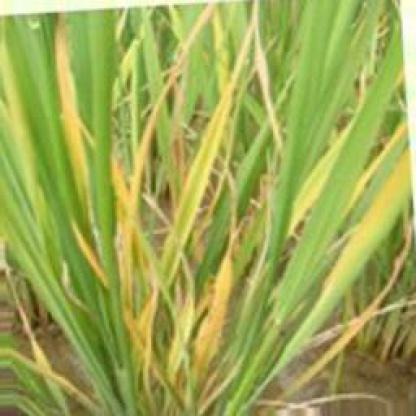Tungro: (123, 43, 263, 396), (281, 153, 408, 364), (267, 100, 370, 251), (183, 227, 245, 415), (47, 17, 99, 201), (11, 300, 75, 416), (66, 217, 118, 305), (178, 8, 212, 47)
